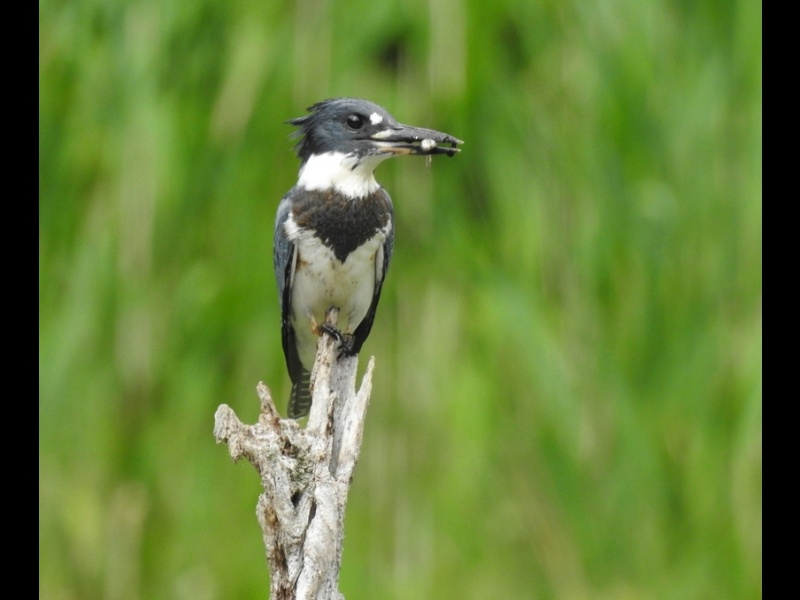kingfisher: (269, 98, 469, 426)
